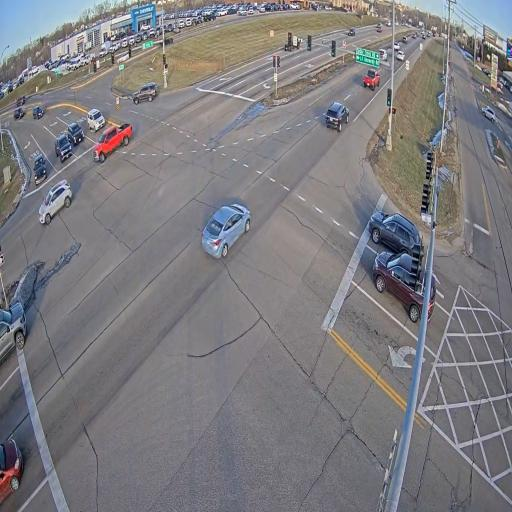pickup: (92, 123, 132, 162), (54, 134, 72, 162), (34, 155, 46, 184), (364, 69, 380, 90), (380, 49, 387, 60), (394, 41, 399, 50), (386, 21, 391, 26)
sedan: (202, 203, 251, 257), (118, 54, 129, 62), (377, 24, 382, 32)
suv: (372, 251, 423, 322), (368, 211, 420, 255), (38, 179, 72, 224), (0, 302, 26, 359), (0, 439, 23, 503), (326, 102, 349, 132), (132, 82, 158, 104), (87, 109, 105, 132), (67, 122, 84, 146), (428, 279, 436, 320), (285, 32, 302, 51), (482, 107, 495, 122), (33, 106, 44, 119), (15, 107, 24, 119), (16, 95, 25, 106), (395, 50, 404, 60), (348, 27, 355, 35), (402, 36, 407, 43), (412, 33, 417, 38), (422, 33, 425, 38)
